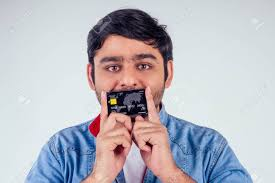Indian_Male: (95, 19, 165, 90)
